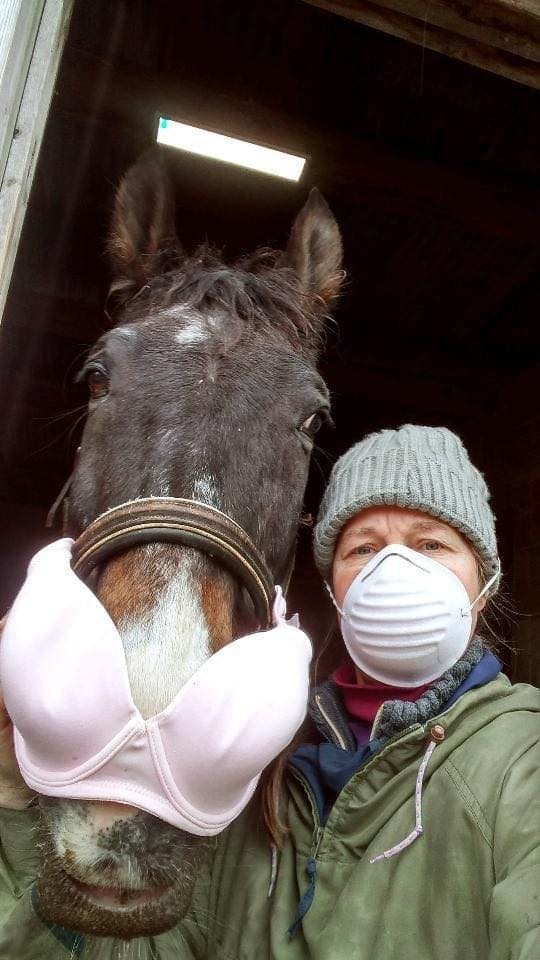Horse: (49, 166, 347, 929)
